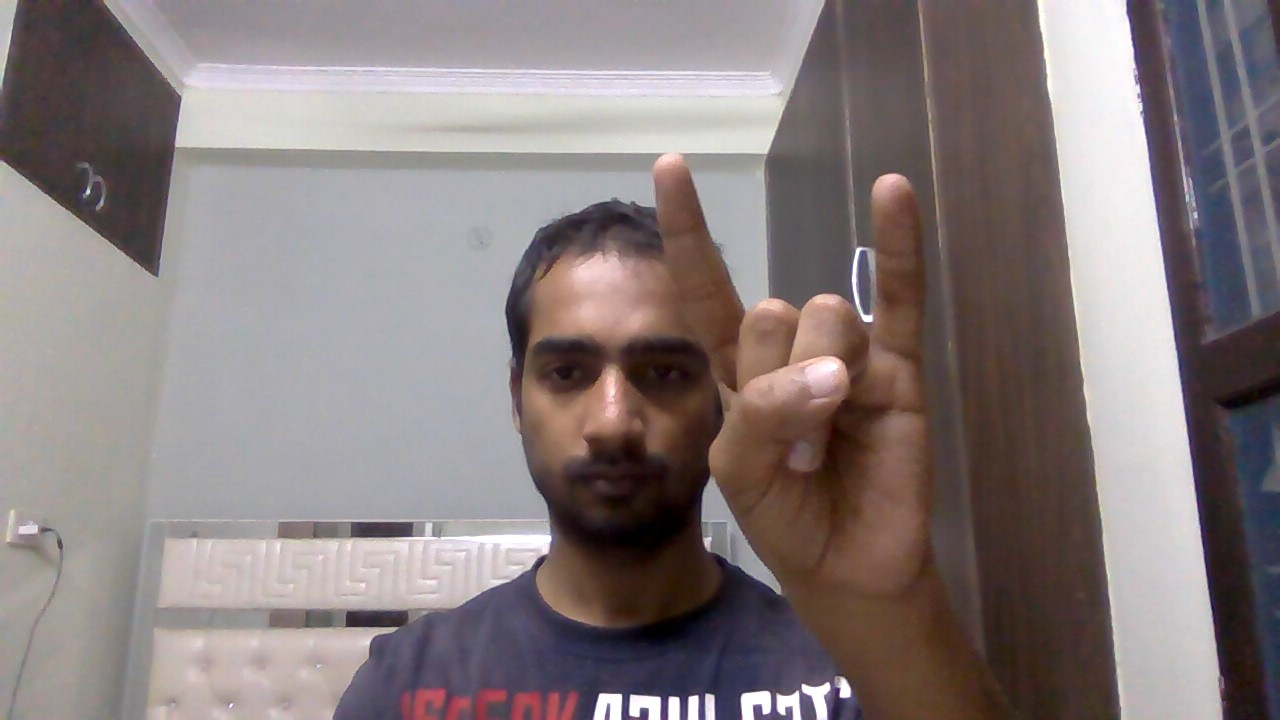Select All: (636, 142, 966, 616)
